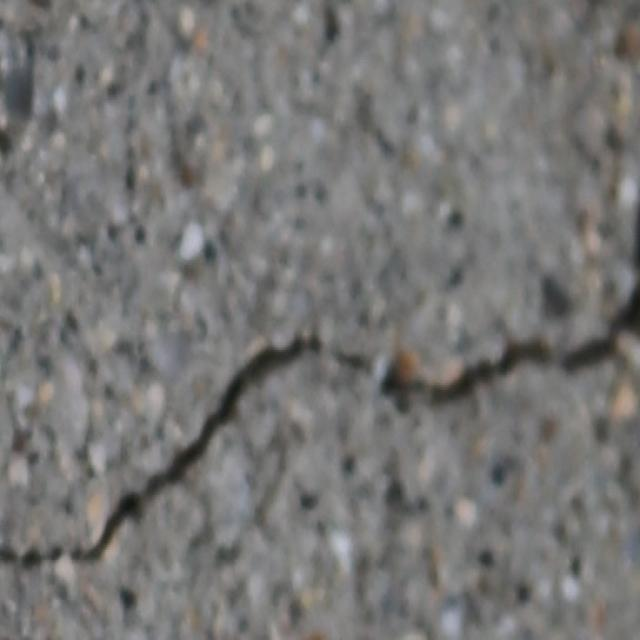Diagonal: (103, 330, 311, 520)
Transverse: (323, 304, 640, 411), (0, 517, 105, 582)
